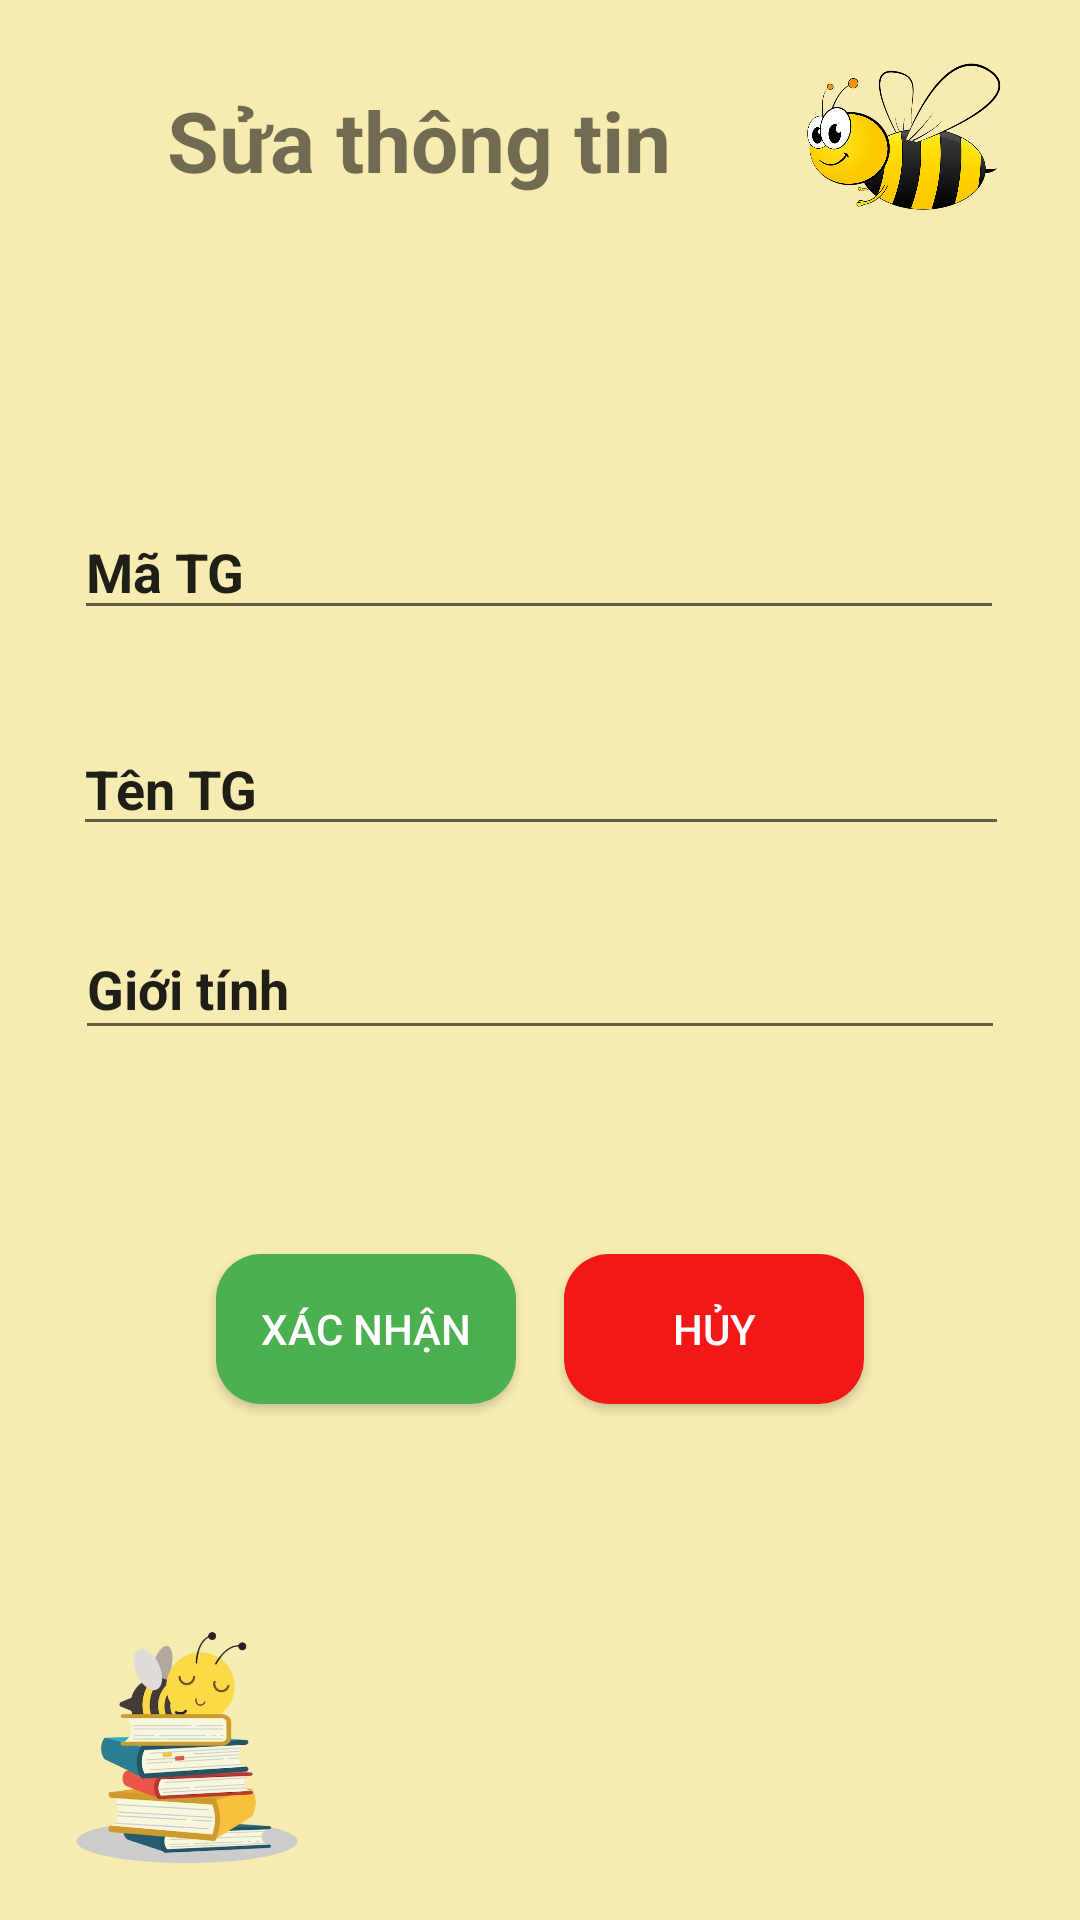

Point at icon controls on the screen. Image size 1080 × 1920, points as (x,y).
ong: (904,136)
ongsach: (187,1747)
